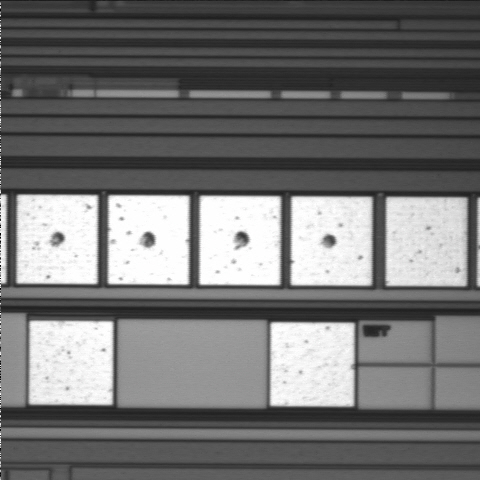pad: (199, 196, 281, 285), (108, 195, 189, 285), (17, 195, 98, 284), (291, 197, 372, 286), (386, 197, 467, 286), (29, 321, 113, 405), (270, 322, 354, 406)
